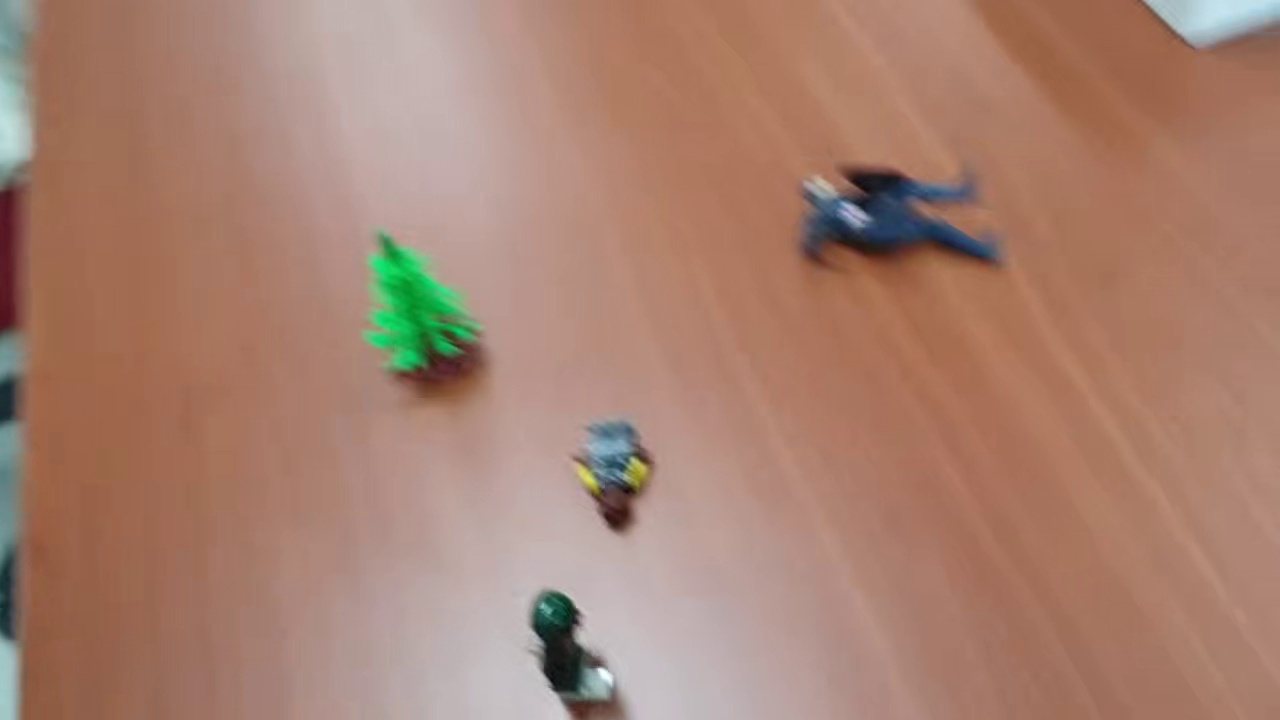people: (795, 163, 1006, 279), (528, 591, 621, 720), (565, 416, 657, 535)
tree: (354, 232, 492, 387)
